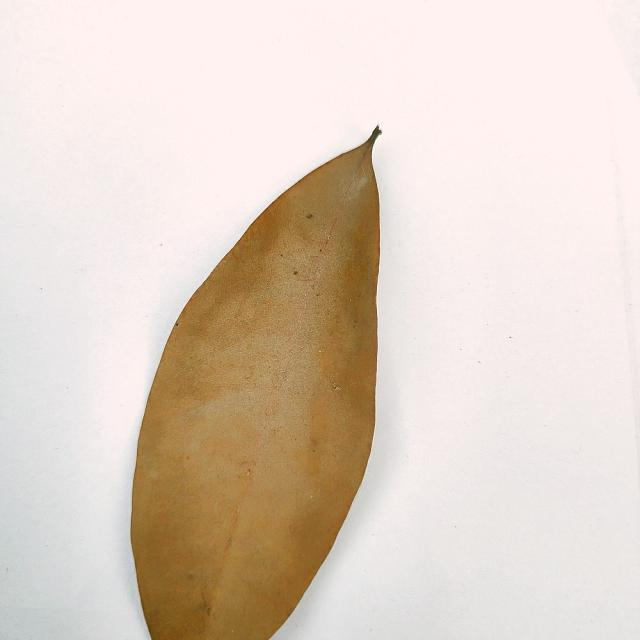Dry_Leaf-Lychee: (129, 133, 381, 639)
